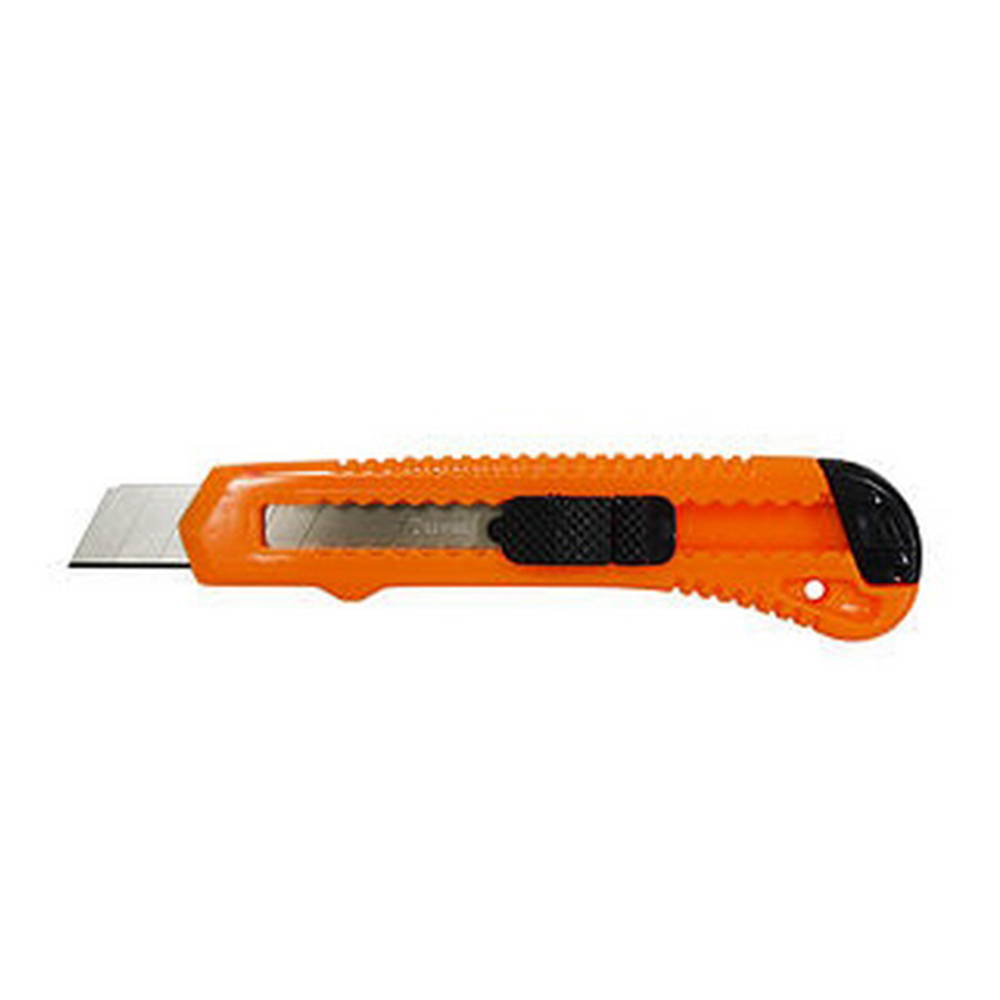cutter: (63, 453, 924, 634)
